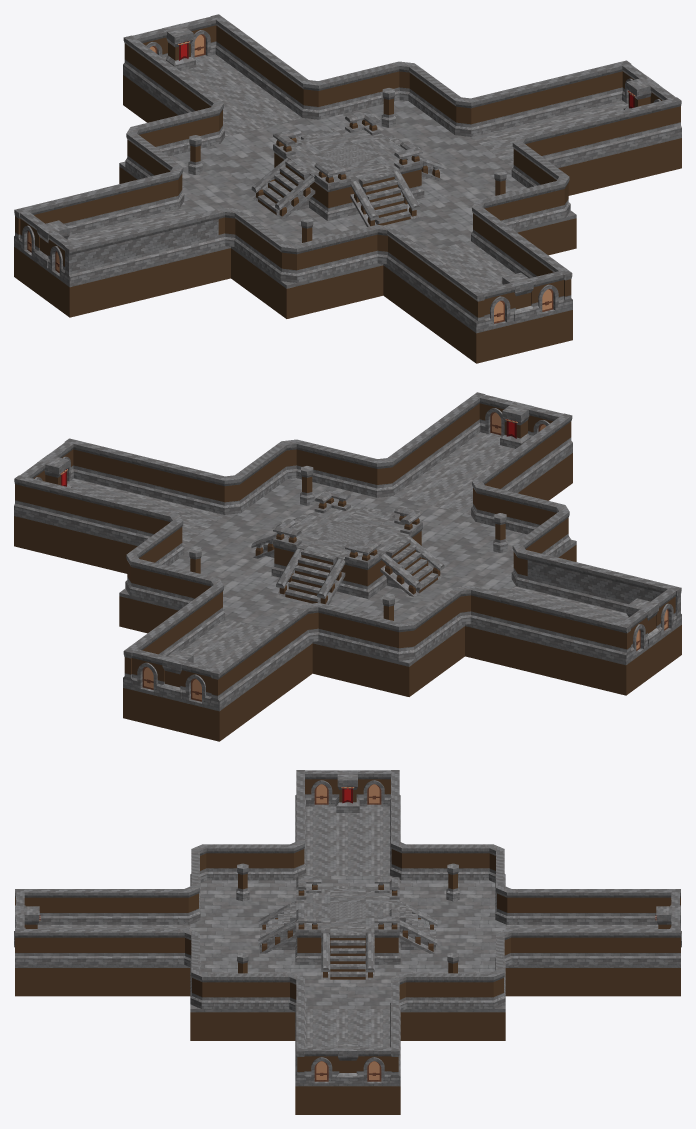
Rendered from DungeonLevel.fbx.
3 views of the same model, one above another, from view 1: azimuth 30°, elevation 25°; view 2: azimuth 150°, elevation 25°; view 3: azimuth 270°, elevation 25° (orthographic). The views are drawn at different scales.
Visible parts, largest first — view 1: floor (×6), wall (×16), wall_corner_diagonal (×9), wall_gate (×6), column_short (×4), stairs (×2), floor_corner (×2), barrier_corner (×4), floor_side (×4), barrier_diagonal (×2); view 2: floor (×6), wall (×16), wall_corner_diagonal (×9), wall_gate (×6), column_short (×4), stairs (×2), floor_corner (×2), barrier_corner (×4), floor_side (×4), barrier_diagonal (×2); view 3: floor (×6), wall (×12), wall_corner_diagonal (×12), wall_gate (×4), stairs (×3), floor_corner (×2), column_short (×2), barrier_diagonal (×2), floor_side (×2).
Part boxes in pixels (x1,y1,x2,y2): floor (×6): (14,54,681,363); wall (×16): (14,14,681,329); wall_corner_diagonal (×9): (164,61,570,282); wall_gate (×6): (19,16,564,327); column_short (×4): (34,23,658,321); stairs (×2): (257,160,410,225); floor_corner (×2): (309,153,424,220); barrier_corner (×4): (273,111,422,186); floor_side (×4): (291,131,404,199); barrier_diagonal (×2): (275,175,378,226); floor (×6): (14,432,681,741); wall (×16): (14,392,681,707); wall_corner_diagonal (×9): (125,439,531,660); wall_gate (×6): (132,394,676,705); column_short (×4): (37,401,661,699); stairs (×2): (285,538,438,603); floor_corner (×2): (271,531,386,598); barrier_corner (×4): (273,489,422,564); floor_side (×4): (291,509,404,577); barrier_diagonal (×2): (317,553,420,604); floor (×6): (15,804,680,1114); wall (×12): (15,770,680,1083); wall_corner_diagonal (×12): (178,839,517,1011); wall_gate (×4): (304,770,391,1083); stairs (×3): (260,903,435,979); floor_corner (×2): (295,918,400,964); column_short (×2): (336,770,359,1083); barrier_diagonal (×2): (258,919,437,953); floor_side (×2): (330,889,365,932).
Size of the model in its own units: 763 by 96 by 763.
